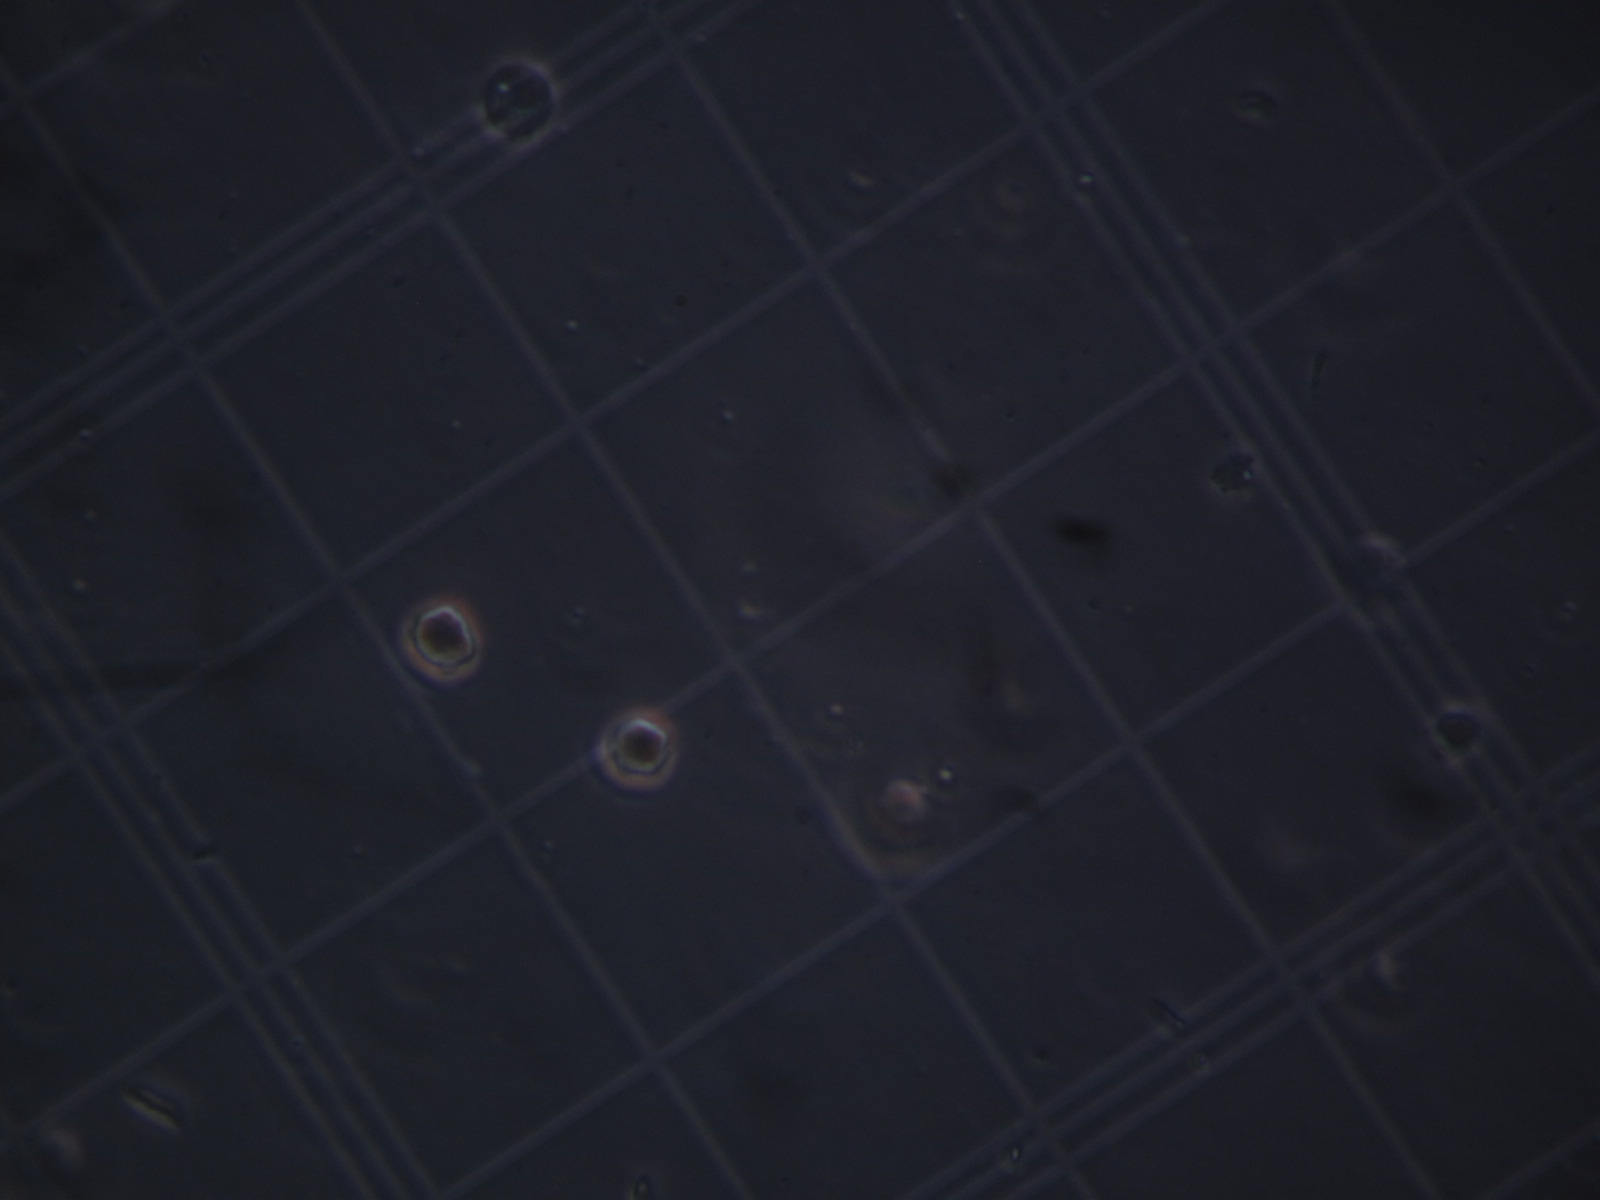hemo: (835, 776, 960, 870), (399, 595, 488, 684), (474, 57, 559, 145), (598, 707, 682, 792), (1427, 698, 1490, 763)
